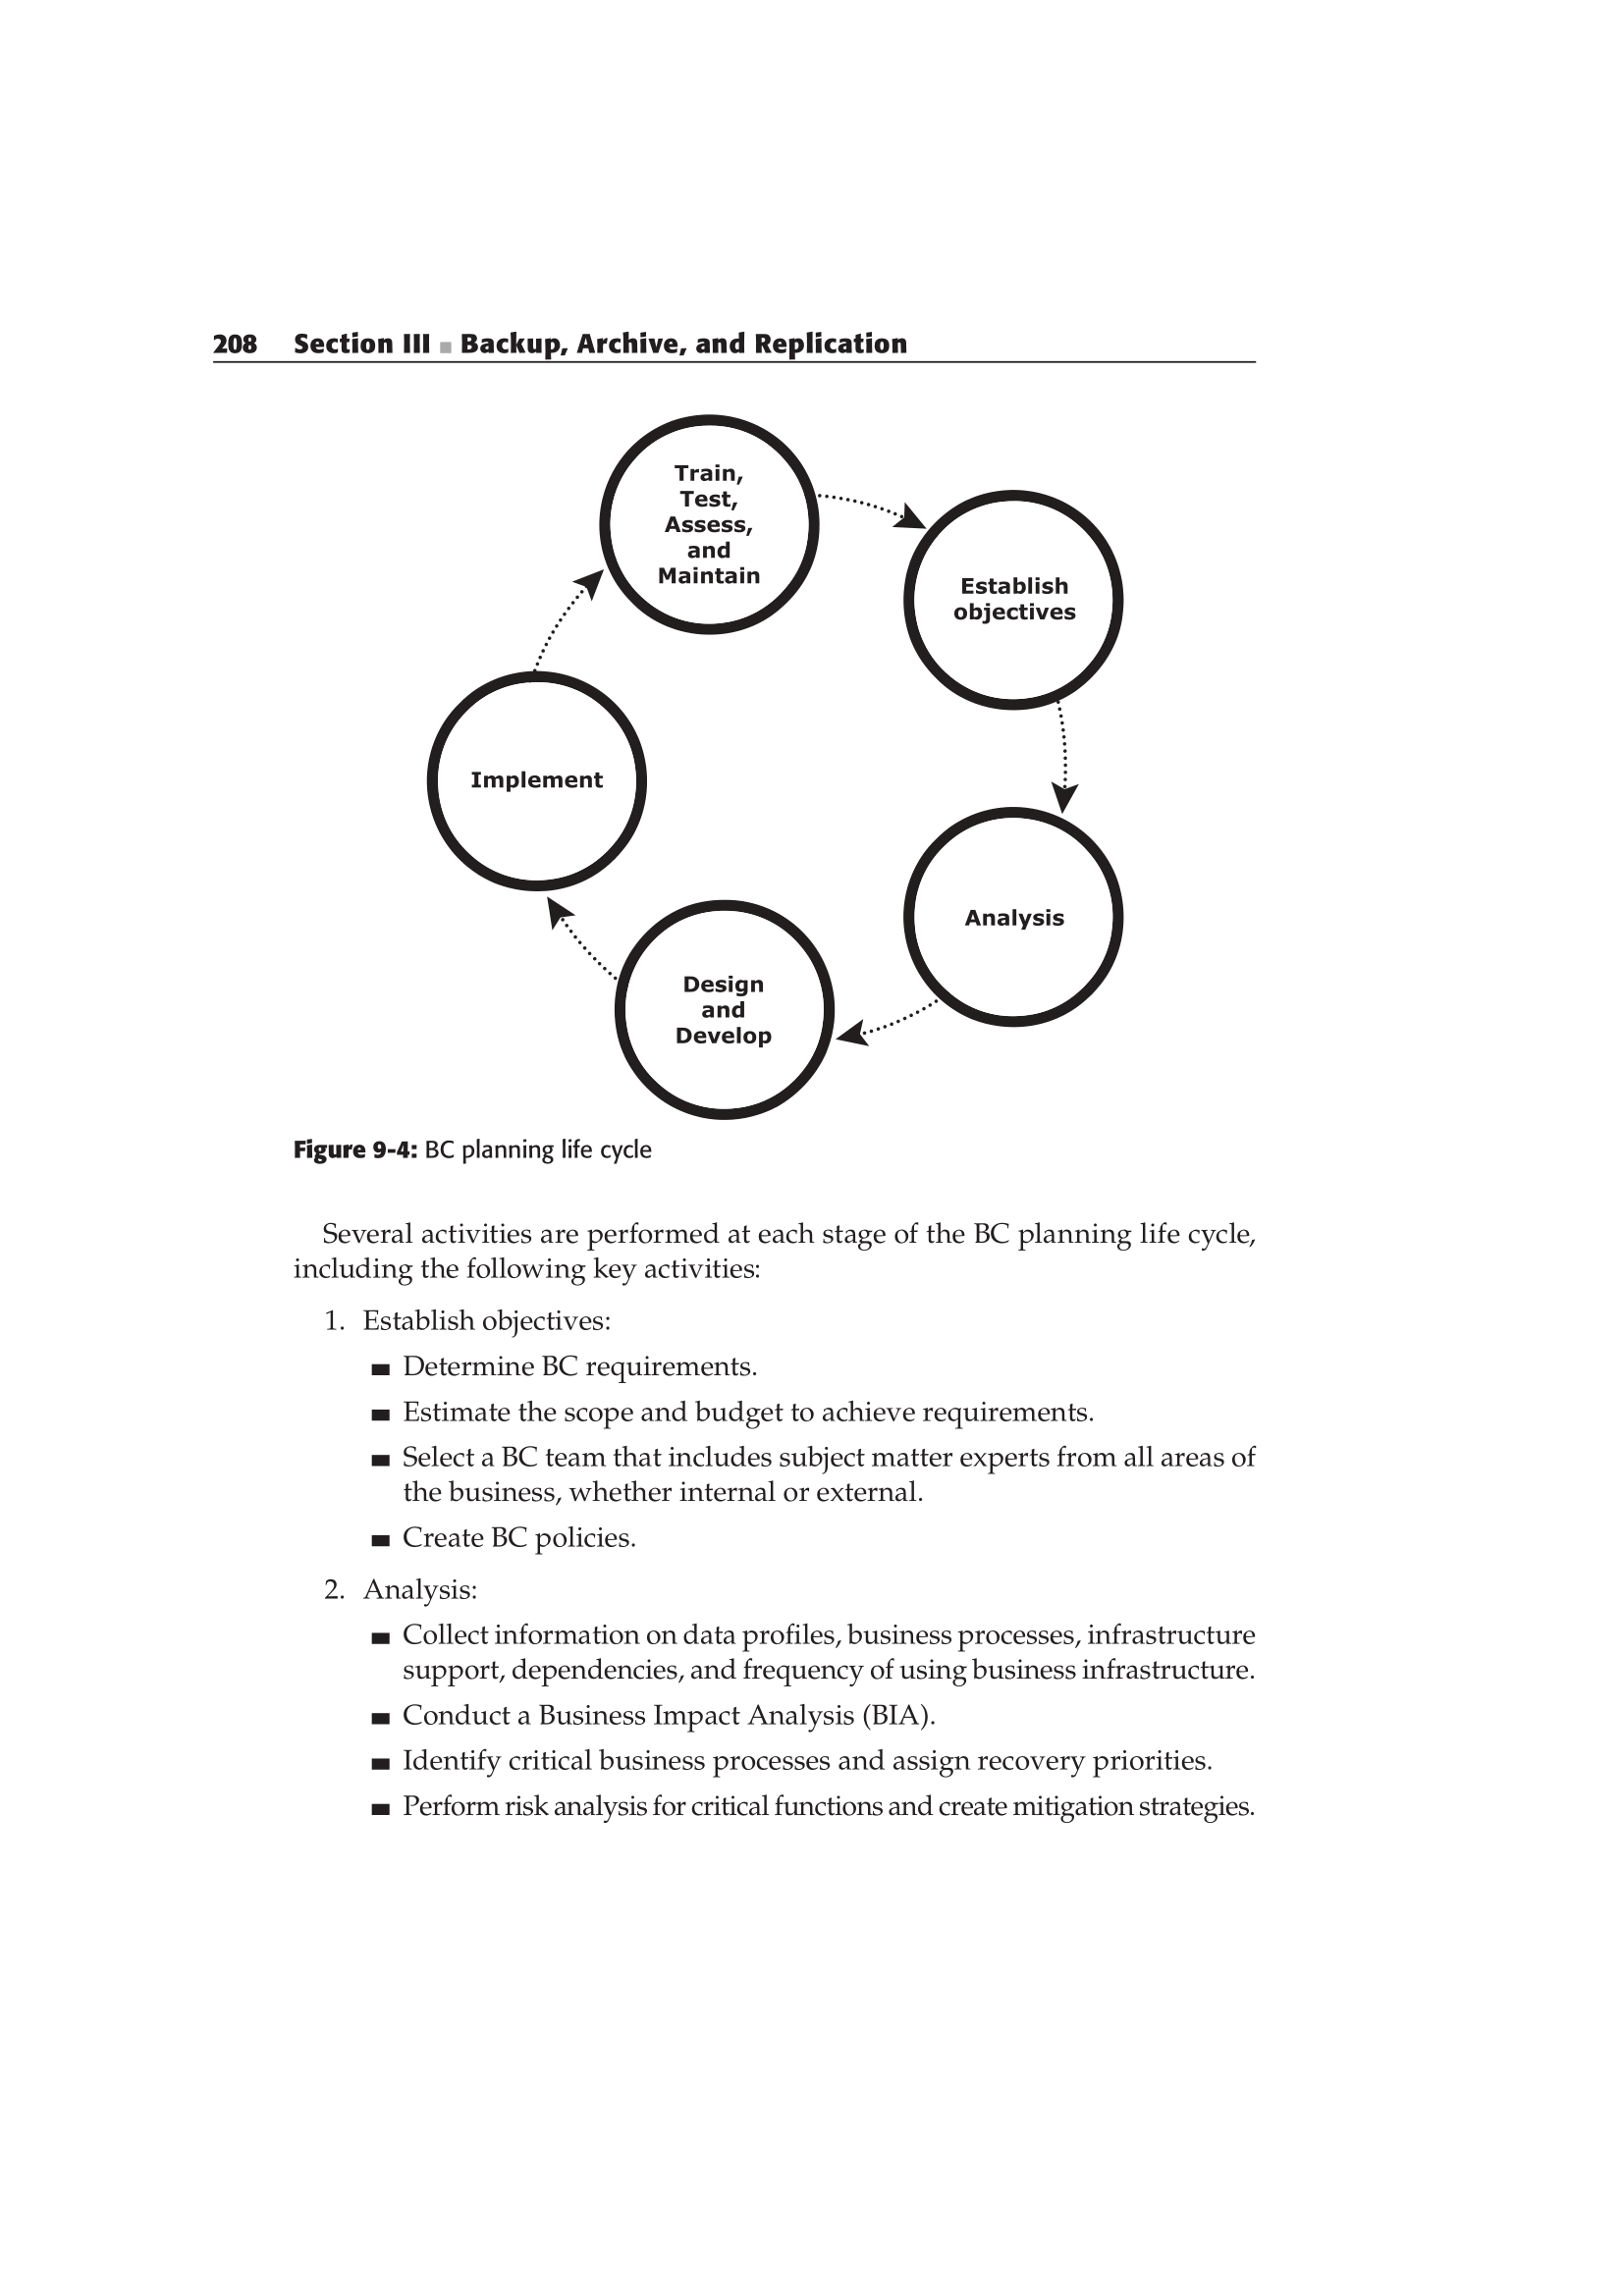Image: (411, 383, 1156, 1118)
Paragraph: (288, 1206, 1265, 1297), (397, 1611, 1259, 1694), (397, 1446, 1273, 1506), (188, 297, 950, 365), (383, 1785, 1279, 1831), (393, 1743, 1228, 1780), (388, 1392, 1110, 1434), (274, 1113, 680, 1187), (393, 1697, 945, 1734), (383, 1346, 762, 1383), (388, 1515, 662, 1561), (314, 1301, 617, 1332), (311, 1571, 488, 1606)
